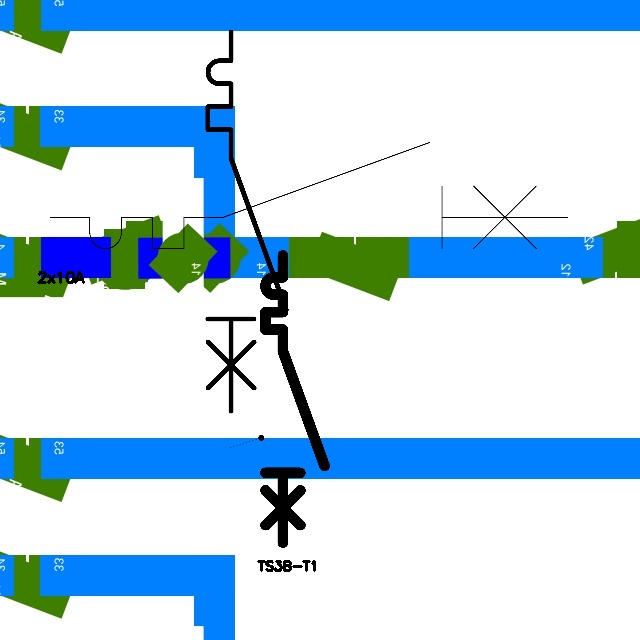interruptor_termomagnetico: (37, 129, 581, 262), (198, 22, 295, 421), (258, 248, 332, 550)
